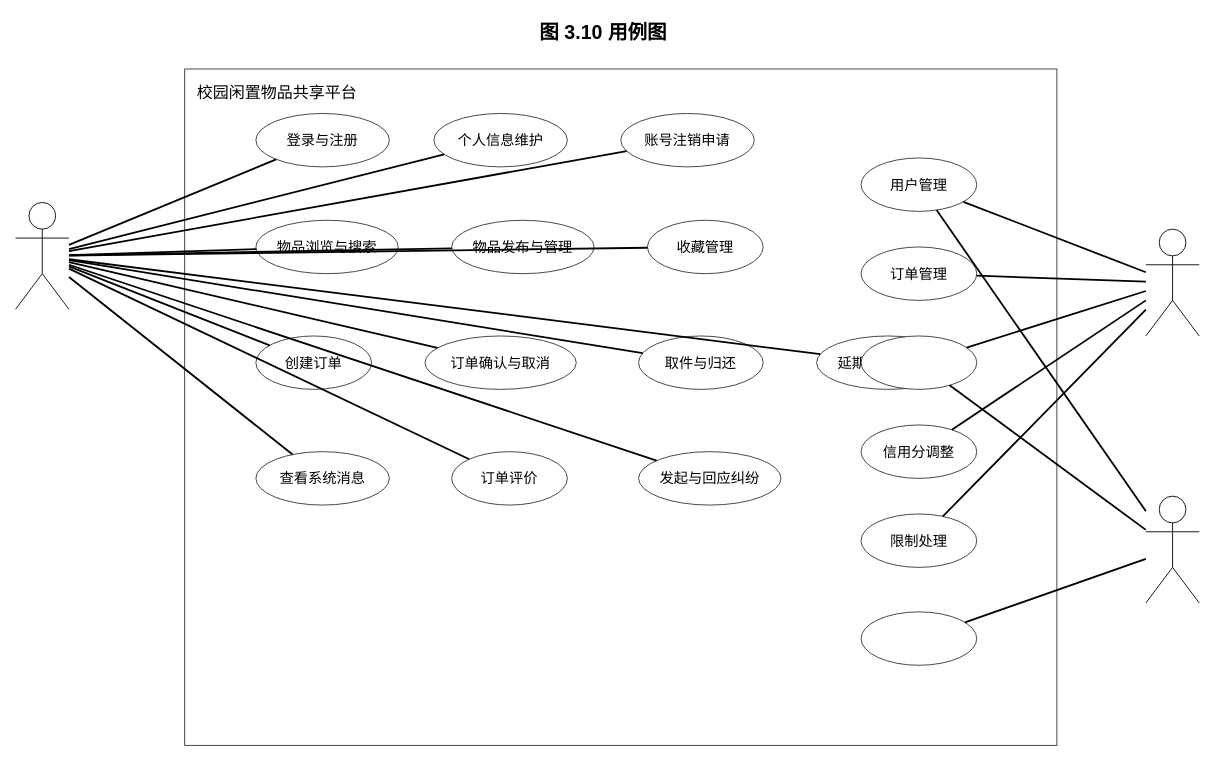
This 1228x761 diagram has some shape labels left out. Here are the shapes that lost their labels. From the top down, the box of each, then its label:
(15, 202, 69, 309): 用户
(1145, 228, 1199, 336): 管理员
(860, 335, 977, 389): 纠纷处理
(1145, 495, 1199, 603): 超级管理员
(860, 611, 977, 665): 管理员管理
